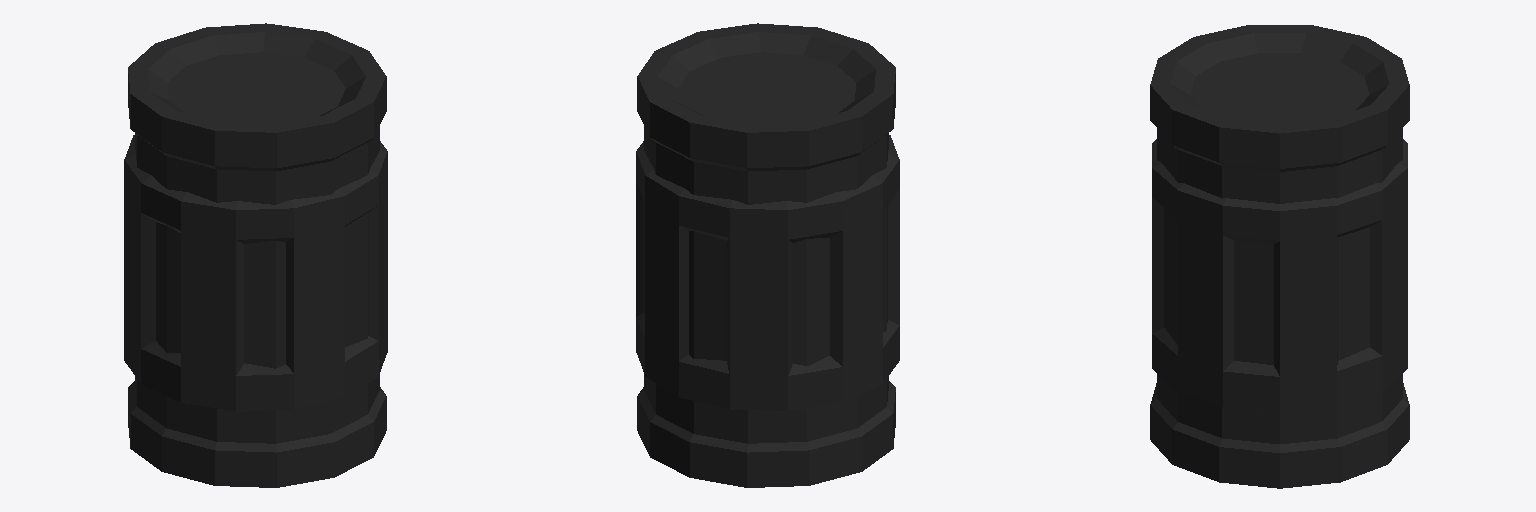
File: Barrel_Medium.obj
3 renders of one model, left to right at view 1: azimuth 30°, elevation 25°; view 2: azimuth 150°, elevation 25°; view 3: azimuth 270°, elevation 25°, orthographic.
Parts seen in each view (by area): view 1: Barrel_Medium.obj; view 2: Barrel_Medium.obj; view 3: Barrel_Medium.obj.
Part boxes in pixels (bbox=[...]): Barrel_Medium.obj: bbox=[124, 23, 387, 487]; Barrel_Medium.obj: bbox=[636, 23, 899, 487]; Barrel_Medium.obj: bbox=[1150, 25, 1409, 488].
Size of the model in its own units: 1.38 by 2.04 by 1.35.